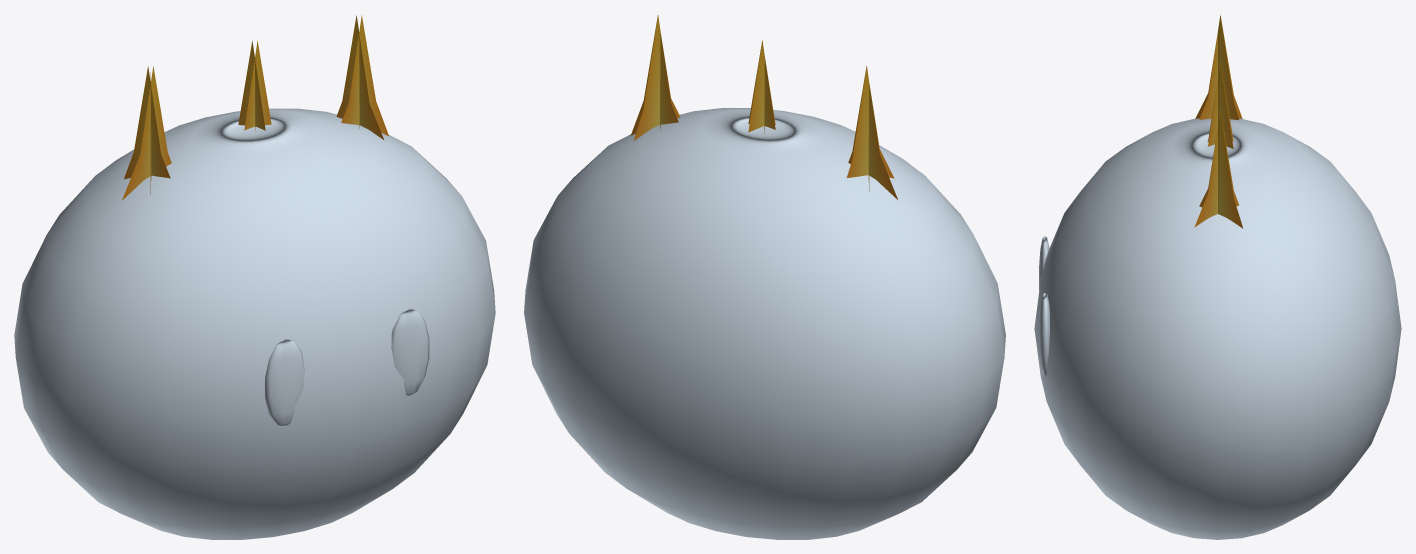
File: 2006_PyroSlimeThrow_Lit_Projectile.fbx
3 renders of one model, left to right at view 1: azimuth 30°, elevation 25°; view 2: azimuth 150°, elevation 25°; view 3: azimuth 270°, elevation 25°, orthographic. The views are drawn at different scales.
Parts seen in each view (by area): view 1: PART_ThrownPyroSlimeBody, PART_SlimeAttachedFlame0, PART_SlimeAttachedFlame2, PART_SlimeEye-0.095, PART_SlimeEye0.095, PART_SlimeAttachedFlame1; view 2: PART_ThrownPyroSlimeBody, PART_SlimeAttachedFlame0, PART_SlimeAttachedFlame2, PART_SlimeAttachedFlame1; view 3: PART_ThrownPyroSlimeBody, PART_SlimeAttachedFlame2, PART_SlimeAttachedFlame0, PART_SlimeAttachedFlame1, PART_SlimeEye0.095.
Part boxes in pixels (bbox=[...]): PART_ThrownPyroSlimeBody: bbox=[14, 108, 495, 539]; PART_SlimeAttachedFlame0: bbox=[122, 66, 171, 200]; PART_SlimeAttachedFlame2: bbox=[336, 15, 388, 139]; PART_SlimeEye-0.095: bbox=[265, 338, 304, 426]; PART_SlimeEye0.095: bbox=[391, 308, 429, 396]; PART_SlimeAttachedFlame1: bbox=[238, 41, 271, 130]; PART_ThrownPyroSlimeBody: bbox=[524, 108, 1005, 539]; PART_SlimeAttachedFlame0: bbox=[847, 66, 897, 199]; PART_SlimeAttachedFlame2: bbox=[631, 15, 680, 140]; PART_SlimeAttachedFlame1: bbox=[748, 40, 775, 133]; PART_ThrownPyroSlimeBody: bbox=[1034, 118, 1401, 539]; PART_SlimeAttachedFlame2: bbox=[1194, 110, 1243, 228]; PART_SlimeAttachedFlame0: bbox=[1195, 14, 1242, 120]; PART_SlimeAttachedFlame1: bbox=[1207, 62, 1233, 148]; PART_SlimeEye0.095: bbox=[1039, 293, 1049, 375].
Bounding box in the file's own units: 68 × 70.6 × 52.
